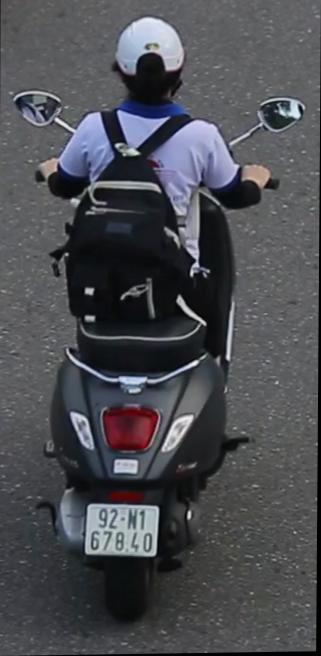LP: (85, 501, 163, 566)
helmet: (111, 12, 189, 109)
